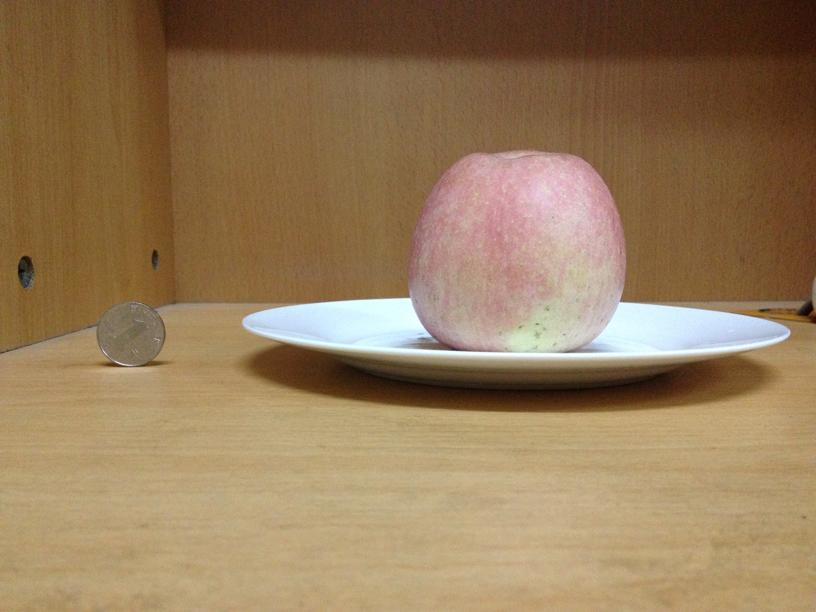apple: (403, 148, 627, 351)
coin: (95, 302, 164, 365)
